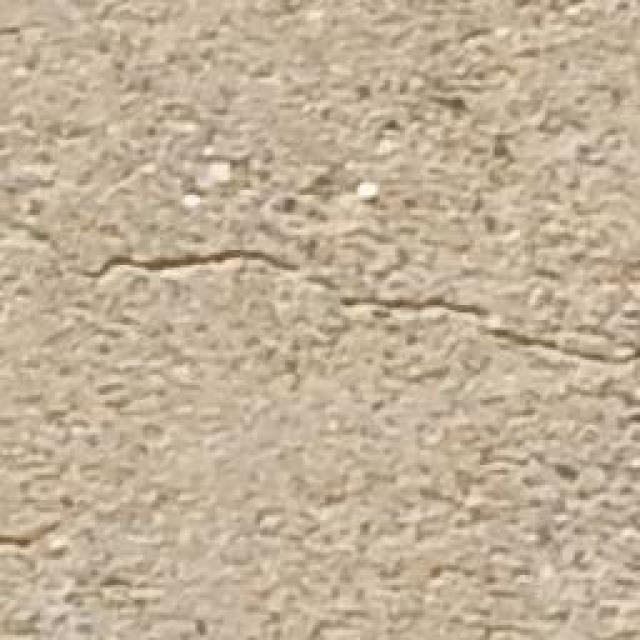concrete-crack: (23, 217, 640, 366)
